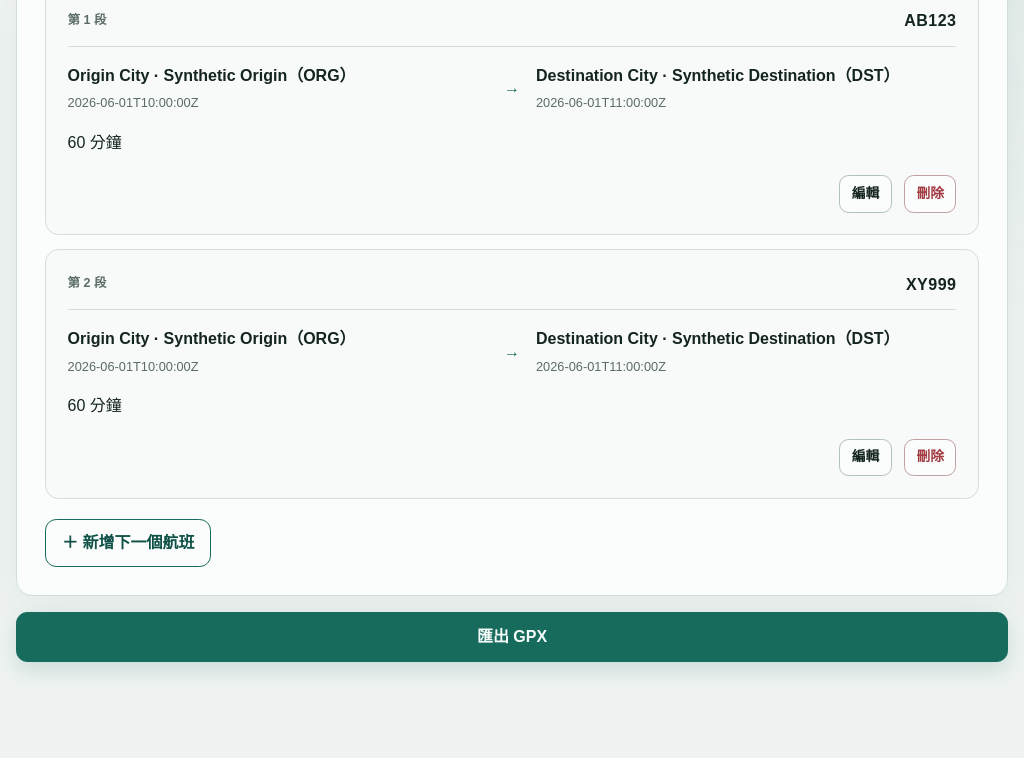
FlightPage › hides export while processing and restores it after cancellation
(page scrolled)
Expected: the text "AB123" is shown, [904,8,956,34]
Click the button "匯出 GPX".
click(512, 637)  # box [16,612,1008,662]
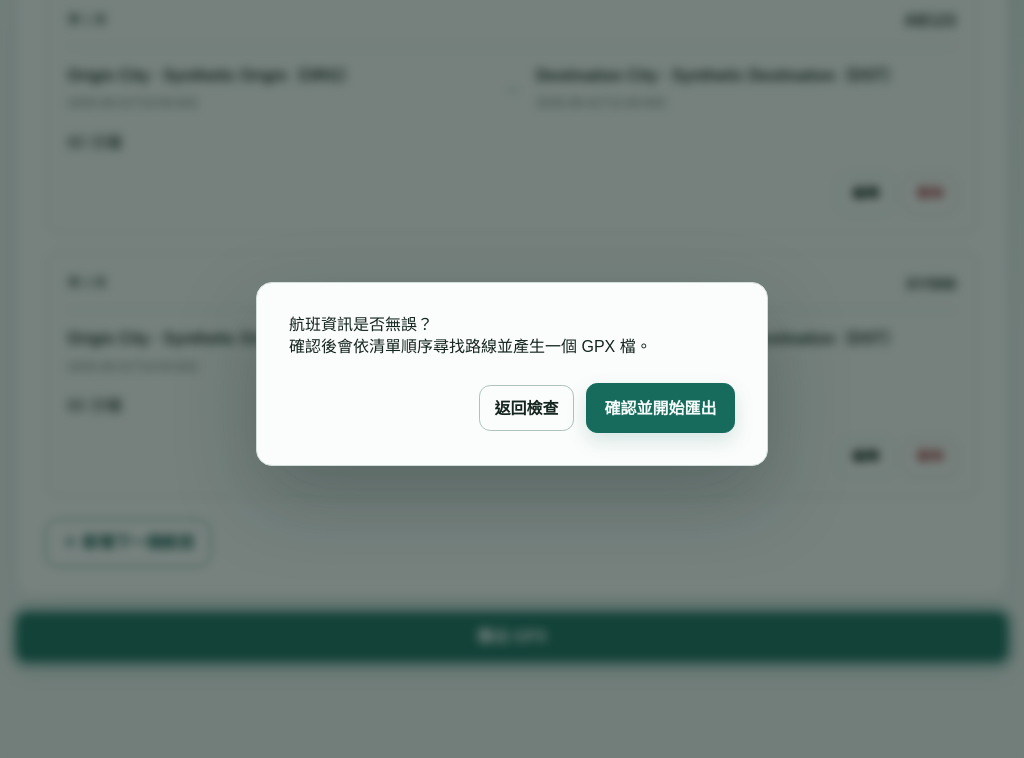
Click the button "確認並開始匯出".
click(660, 408)  # box [586,383,735,433]
(page scrolled)
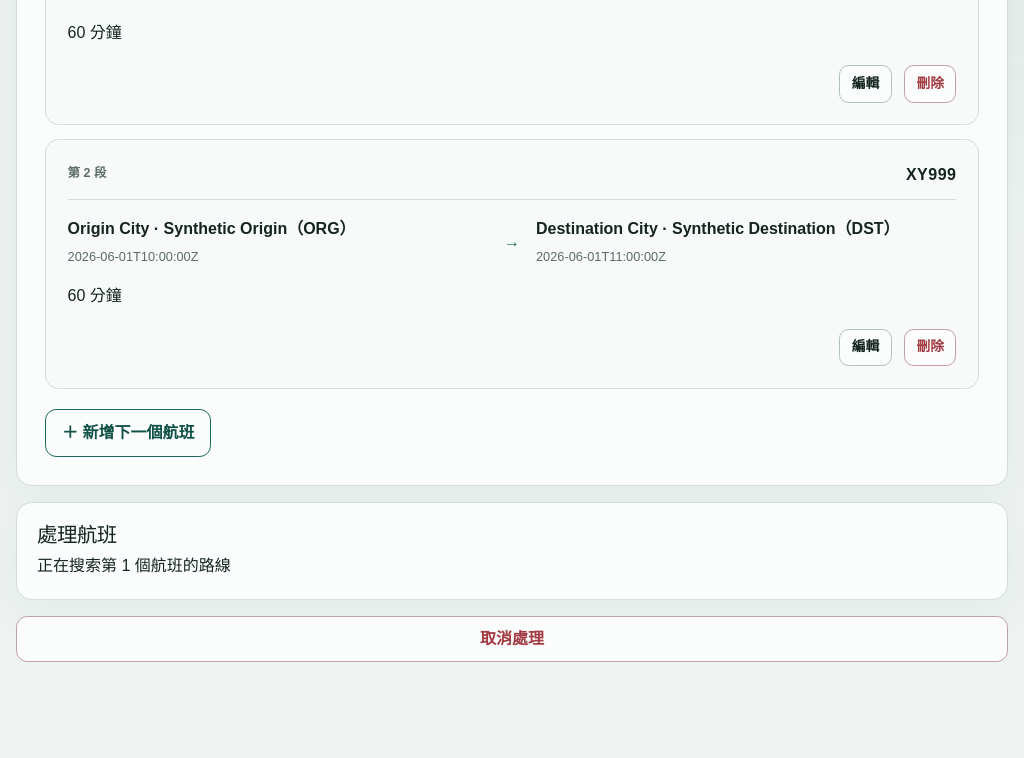
Expected: the button "匯出 GPX" is gone
Expected: the button "取消處理" is shown
Click the button "取消處理".
click(512, 639)  # box [16,616,1008,662]
(page scrolled)
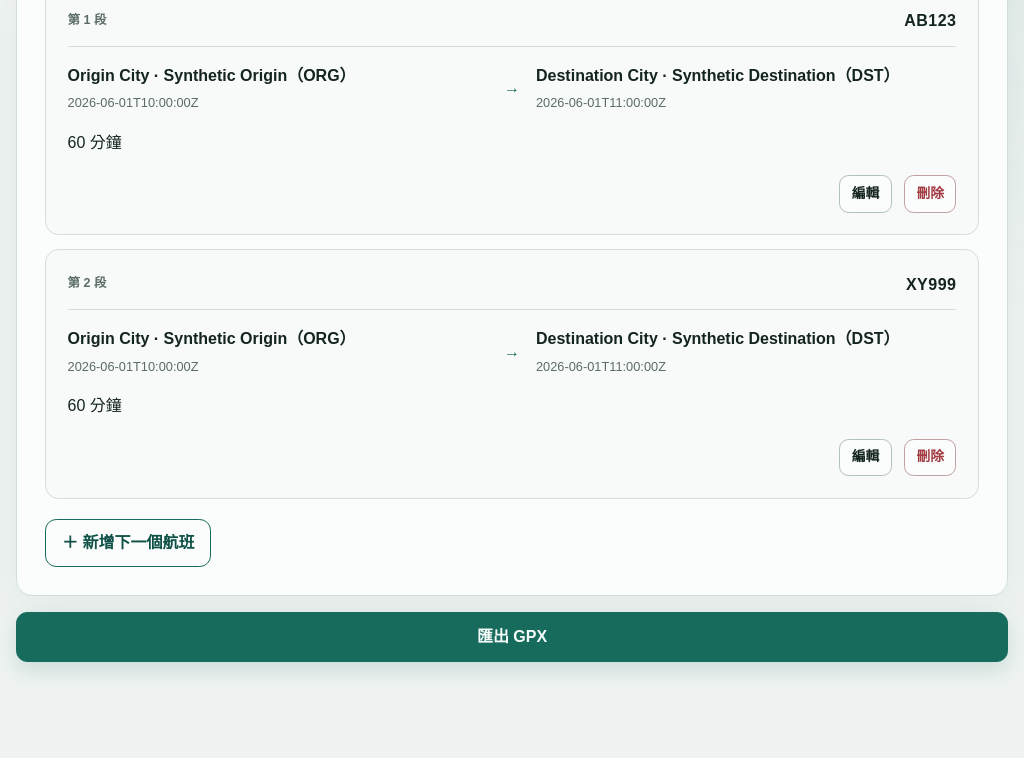
Expected: the button "匯出 GPX" is shown, [16,612,1008,662]
Expected: the button "取消處理" is gone
